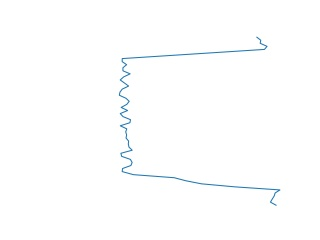distributaryChannelFill: (114, 36, 285, 208)
